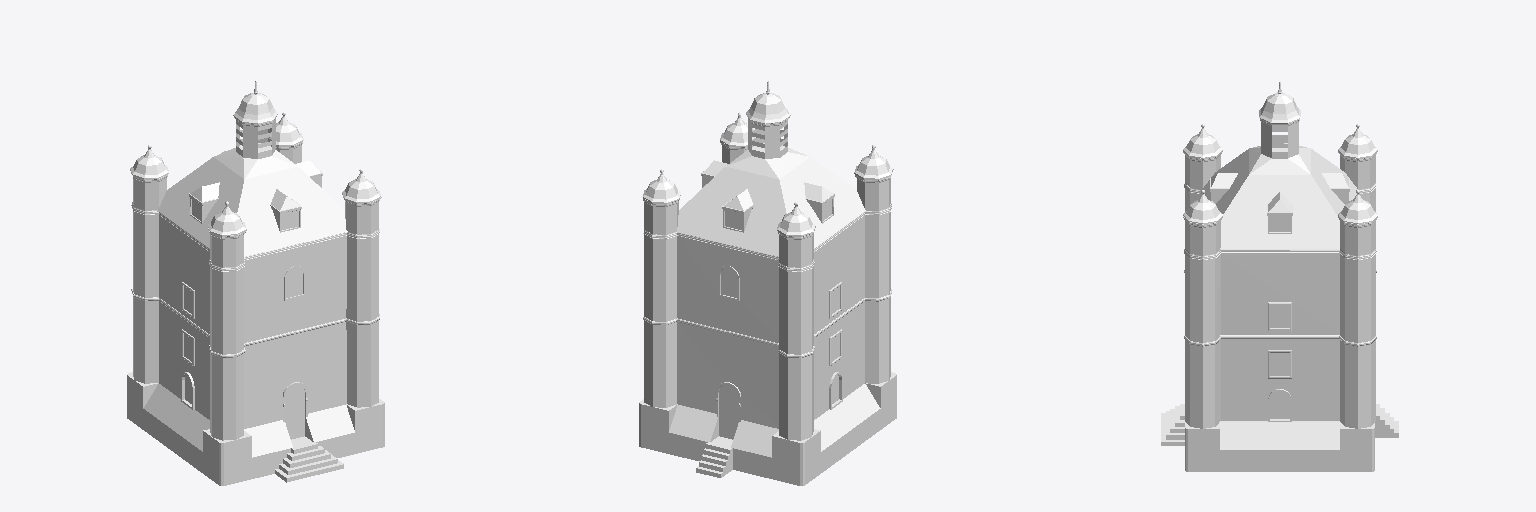
File: rook.obj
3 renders of one model, left to right at view 1: azimuth 30°, elevation 25°; view 2: azimuth 150°, elevation 25°; view 3: azimuth 270°, elevation 25°, orthographic.
Parts seen in each view (by area): view 1: Final; view 2: Final; view 3: Final.
Part boxes in pixels (left/top/right/bottom): Final: left=127, top=81, right=384, bottom=485; Final: left=639, top=81, right=896, bottom=485; Final: left=1161, top=82, right=1398, bottom=471.
Bounding box in the file's own units: 8.23 × 16.27 × 10.